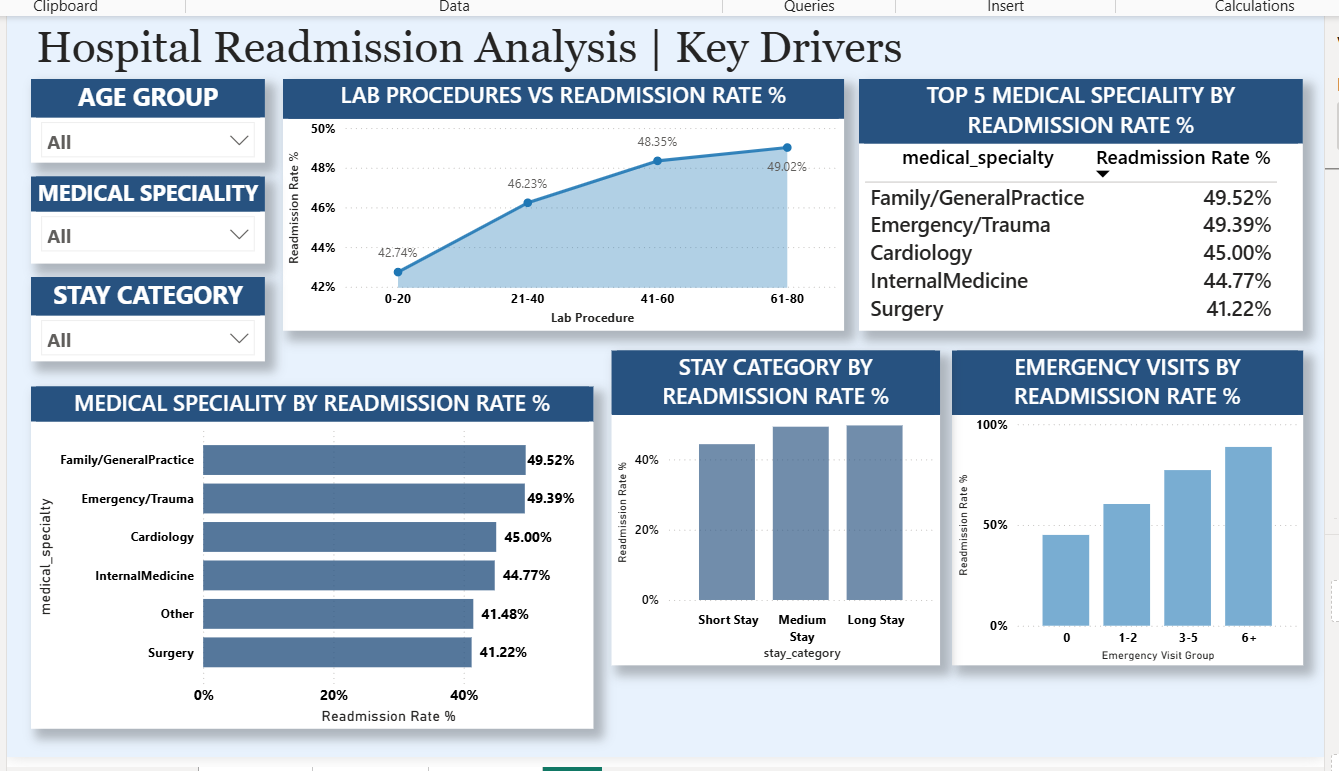

Layout of this report page (visuals, bound fields, positions):
{"tool":"powerbi","page":{"name":"Page 2","canvas":[1280,720],"ordinal":1},"visuals":[{"type":"textbox","box":[23,0,1183,73],"z":0},{"type":"clusteredBarChart","title":"MEDICAL SPECIALITY  BY READMISSION RATE %","fields":{"Category":["processed_hospital_data.medical_specialty"],"Y":["processed_hospital_data.Readmission Rate %"]},"box":[23.3,360.1,546.7,332.4],"z":1000},{"type":"clusteredColumnChart","title":"EMERGENCY VISITS BY READMISSION RATE %","fields":{"Category":["processed_hospital_data.Emergency Visit Group"],"Y":["processed_hospital_data.Readmission Rate %"]},"box":[918.5,325.1,341.1,306.2],"z":2000},{"type":"slicer","title":"AGE GROUP","fields":{"Values":["processed_hospital_data.age"]},"box":[23.3,61.2,227.4,81.6],"z":3000},{"type":"lineChart","title":"LAB PROCEDURES VS READMISSION RATE %","fields":{"Category":["processed_hospital_data.Lab Procedure"],"Y":["processed_hospital_data.Readmission Rate %"]},"box":[268.2,61.2,545.2,244.9],"z":6000},{"type":"clusteredColumnChart","title":"STAY CATEGORY BY READMISSION RATE %","fields":{"Category":["processed_hospital_data.stay_category"],"Y":["processed_hospital_data.Readmission Rate %"]},"box":[587.5,325.1,319.3,306.2],"z":7000},{"type":"tableEx","title":"TOP 5 MEDICAL SPECIALITY BY READMISSION RATE %","fields":{"Values":["processed_hospital_data.medical_specialty","processed_hospital_data.Readmission Rate %"]},"box":[828.1,61.2,431.5,244.9],"z":8000},{"type":"slicer","title":"MEDICAL SPECIALITY","fields":{"Values":["processed_hospital_data.medical_specialty"]},"box":[23.3,156,227.4,84.6],"z":8500},{"type":"slicer","title":"STAY CATEGORY","fields":{"Values":["processed_hospital_data.stay_category"]},"box":[23.3,253.7,227.4,82],"z":9000}]}

Visuals, with their boxes on the page's 1280x720 design canvas (x1, y1, x2, y2). These are canvas units, not pixel positions in the 1339x771 screenshot, which may show the page scaled, cropped or inside an application window:
textbox: box=[23, 0, 1206, 73]
"MEDICAL SPECIALITY  BY READMISSION RATE %" clusteredBarChart: box=[23, 360, 570, 692]
"EMERGENCY VISITS BY READMISSION RATE %" clusteredColumnChart: box=[918, 325, 1260, 631]
"AGE GROUP" slicer: box=[23, 61, 251, 143]
"LAB PROCEDURES VS READMISSION RATE %" lineChart: box=[268, 61, 813, 306]
"STAY CATEGORY BY READMISSION RATE %" clusteredColumnChart: box=[588, 325, 907, 631]
"TOP 5 MEDICAL SPECIALITY BY READMISSION RATE %" tableEx: box=[828, 61, 1260, 306]
"MEDICAL SPECIALITY" slicer: box=[23, 156, 251, 241]
"STAY CATEGORY" slicer: box=[23, 254, 251, 336]
